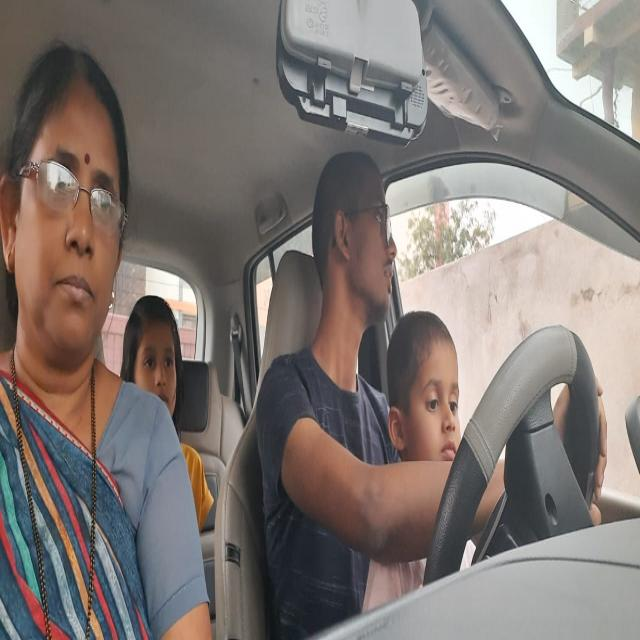child: (388, 300, 463, 470)
person: (0, 37, 131, 370), (307, 146, 398, 326), (124, 294, 183, 412)
